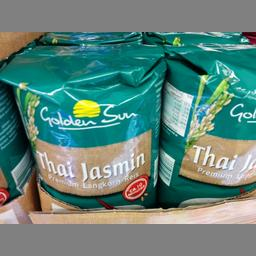rice: (0, 44, 167, 206), (159, 44, 255, 204)
